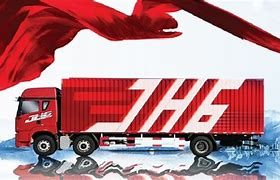bigtruck: (12, 75, 265, 159)
